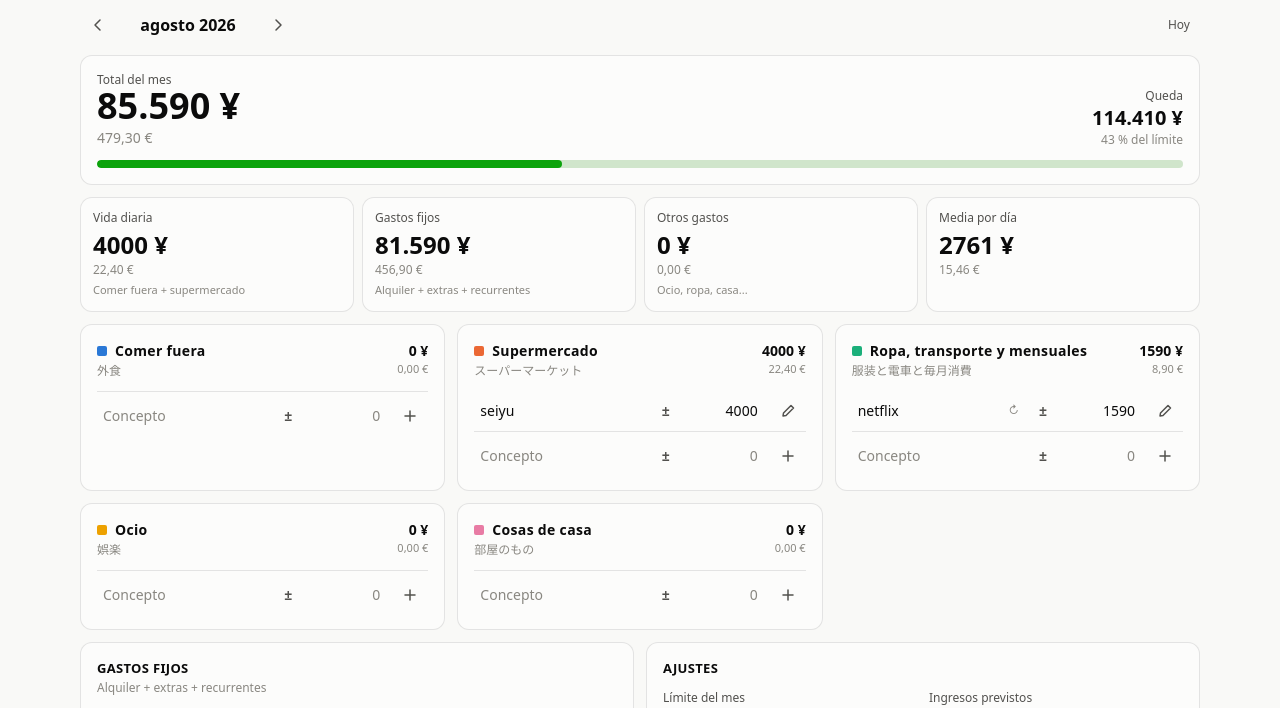
Test case: la aplicacion › al abrir un mes nuevo copia los fijos del anterior
Click the button named "Mes siguiente". click: (278, 25)
box: left=260, top=7, right=296, bottom=43
(page scrolled)
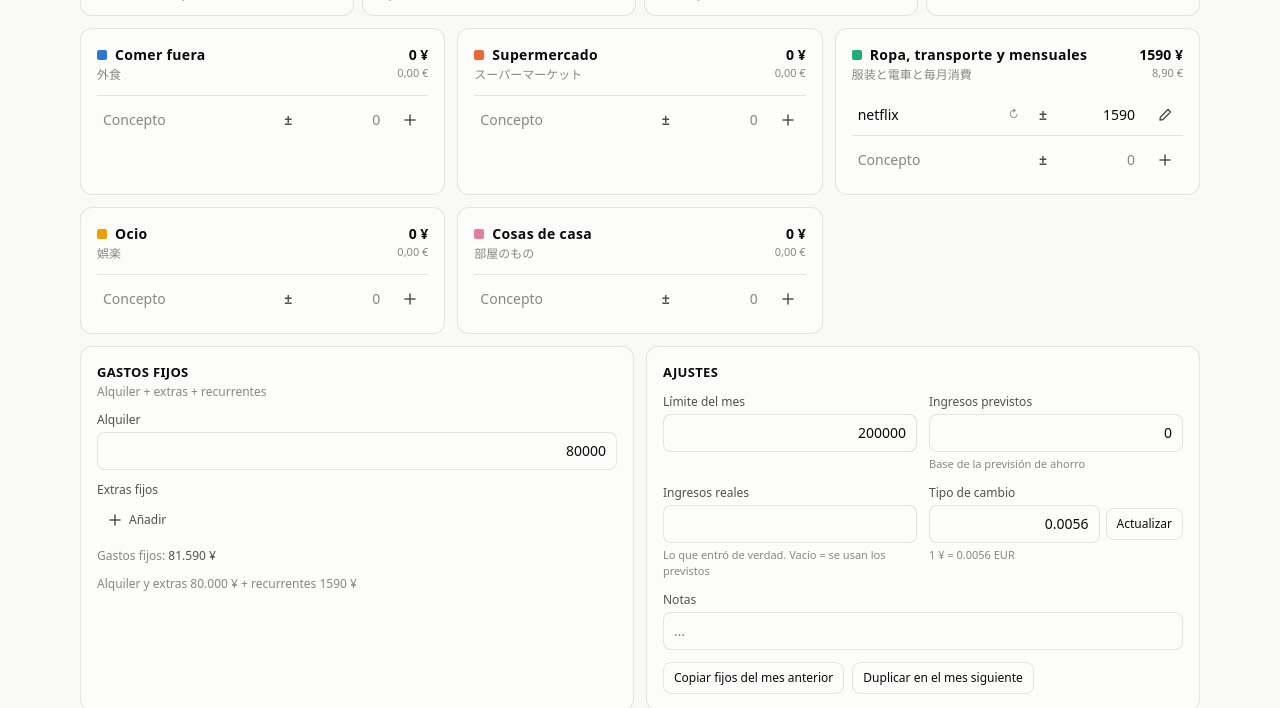
Expected: the field showing "80000" is shown, left=97, top=432, right=617, bottom=470
Now the field showing "netflix" is shown, box left=852, top=98, right=1002, bottom=130
